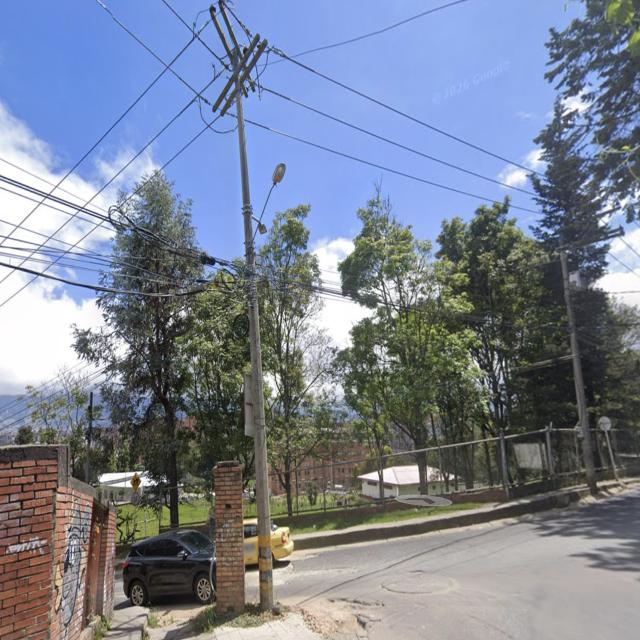Poste: (210, 0, 273, 610), (560, 249, 597, 495)
